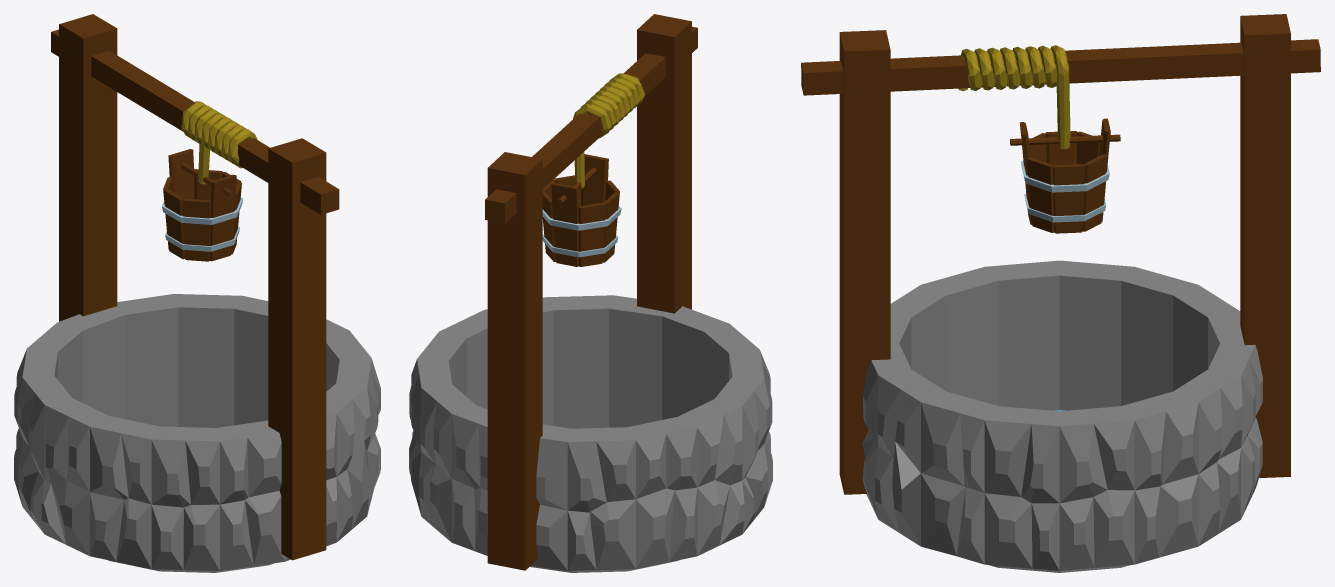
File: well.fbx
3 renders of one model, left to right at view 1: azimuth 30°, elevation 25°; view 2: azimuth 150°, elevation 25°; view 3: azimuth 270°, elevation 25°, orthographic. The views are drawn at different scales.
Visible parts, largest first — view 1: tower.001; view 2: tower.001; view 3: tower.001.
Part boxes in pixels (x1,y1,x2,y2): tower.001: [14, 14, 380, 572]; tower.001: [409, 14, 772, 572]; tower.001: [801, 14, 1320, 572].
Size of the model in its own units: 1715 by 2174 by 2173.
